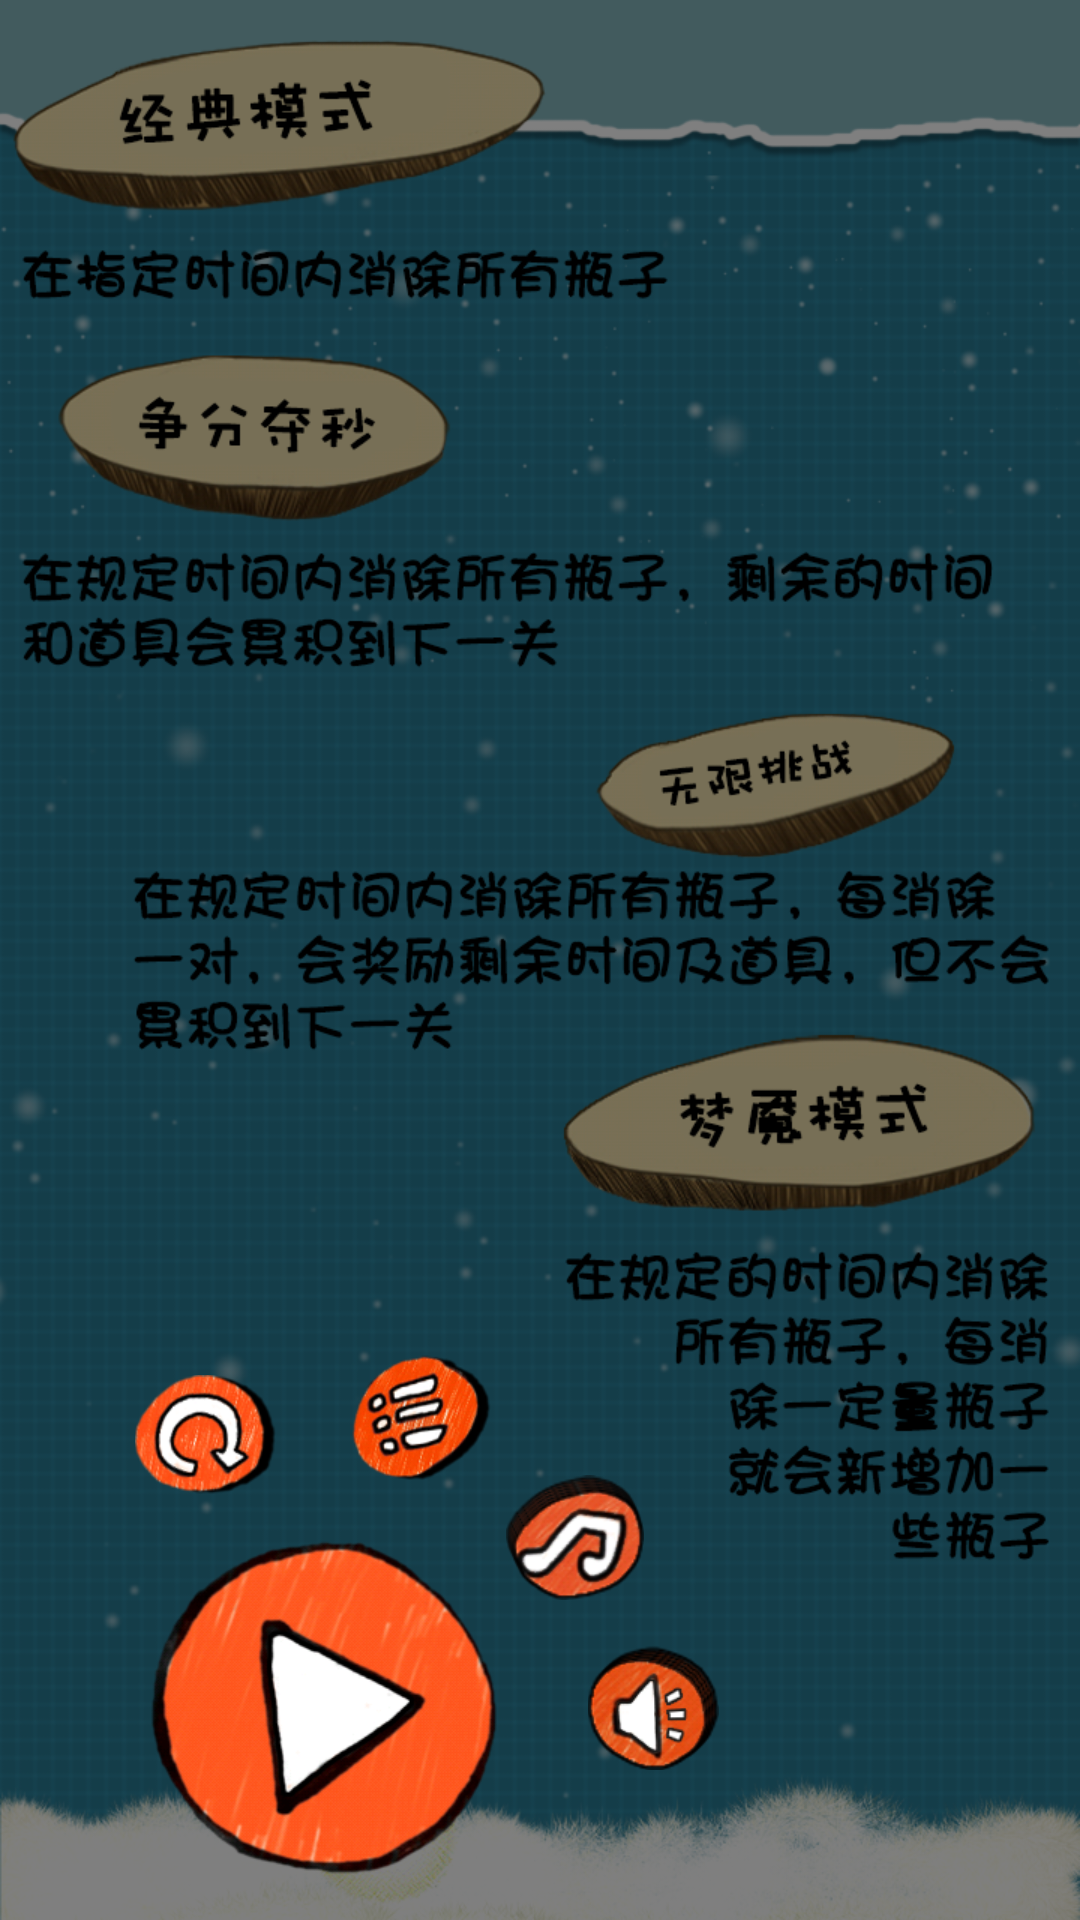

Named icons in this screenshot (1080x1920) and their centers, [x,y]:
laba yes: [653,1708]
music yes: [575,1537]
